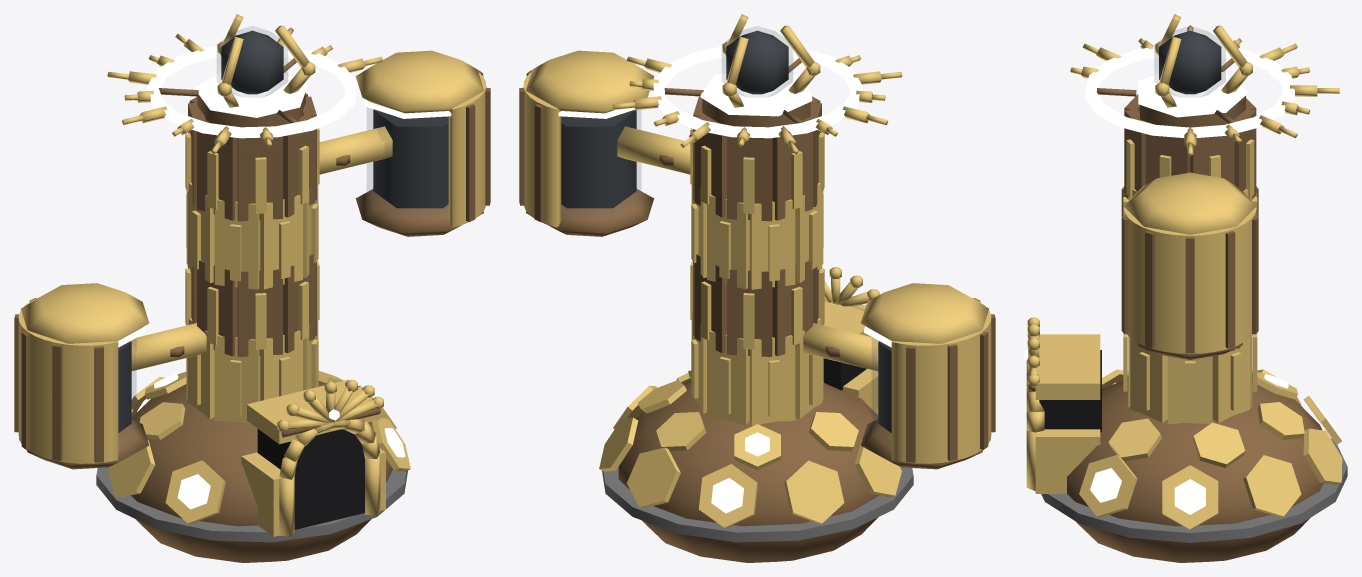
File: SOLAR_Vat_T2.glb
3 renders of one model, left to right at view 1: azimuth 30°, elevation 25°; view 2: azimuth 150°, elevation 25°; view 3: azimuth 270°, elevation 25°, orthographic.
Parts seen in each view (by area): view 1: SOLAR_Vat_T2; view 2: SOLAR_Vat_T2; view 3: SOLAR_Vat_T2.
Boxes of the visible parts, box(x1,y1,x2,y2) form: SOLAR_Vat_T2: box(14, 14, 490, 562); SOLAR_Vat_T2: box(519, 14, 995, 562); SOLAR_Vat_T2: box(1024, 14, 1347, 562).
Bounding box in the file's own units: 5.87 × 6.36 × 3.6.
